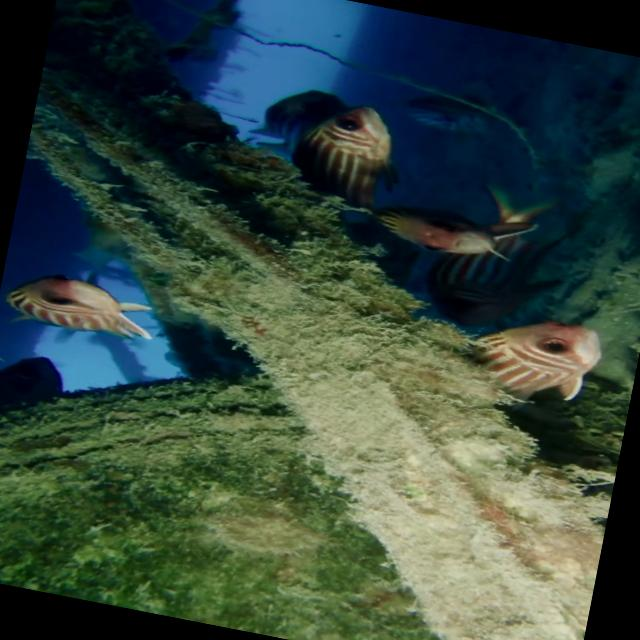Asker Baligi: (458, 303, 608, 417), (0, 263, 162, 349)
